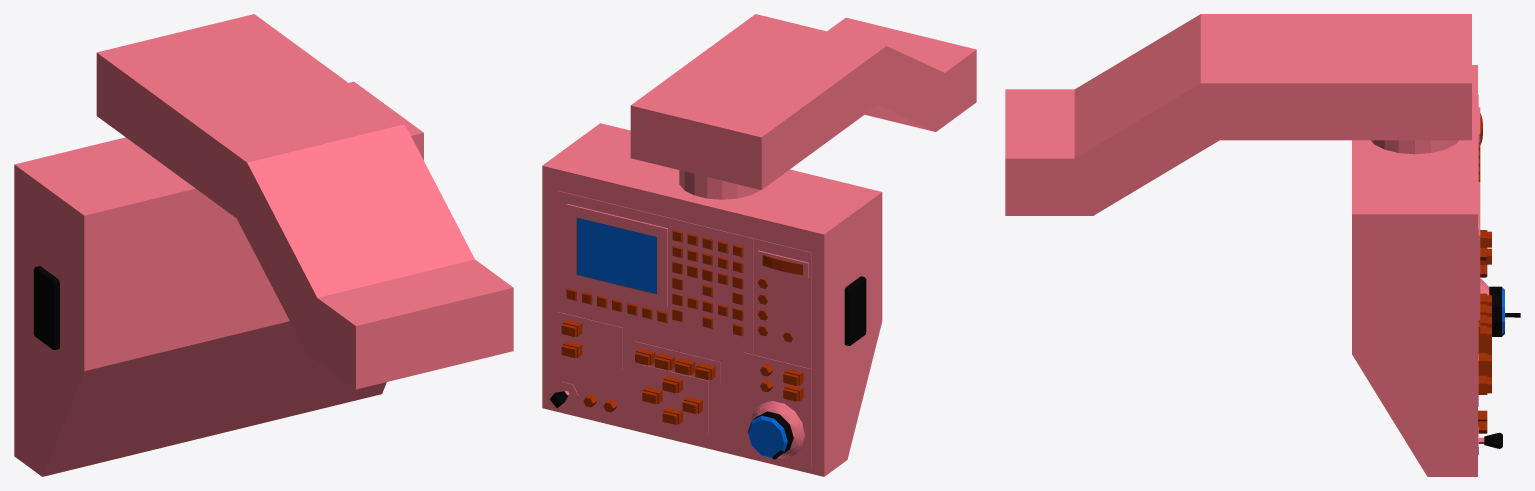
The model's file is Mesin_CNC_1_Bagian_3.fbx.
The picture shows the model from 3 angles, left to right: view 1: azimuth 30°, elevation 25°; view 2: azimuth 150°, elevation 25°; view 3: azimuth 270°, elevation 25°; orthographic projection. The views are drawn at different scales.
Visible parts, largest first — view 1: Mesin CNC 1 Bagian 3; view 2: Mesin CNC 1 Bagian 3; view 3: Mesin CNC 1 Bagian 3.
Part boxes in pixels (x1=…): Mesin CNC 1 Bagian 3: x1=14, y1=14, x2=513, y2=476; Mesin CNC 1 Bagian 3: x1=542, y1=14, x2=976, y2=476; Mesin CNC 1 Bagian 3: x1=1005, y1=14, x2=1520, y2=476.
Bounding box in the file's own units: 50.89 × 54.46 × 73.03.
